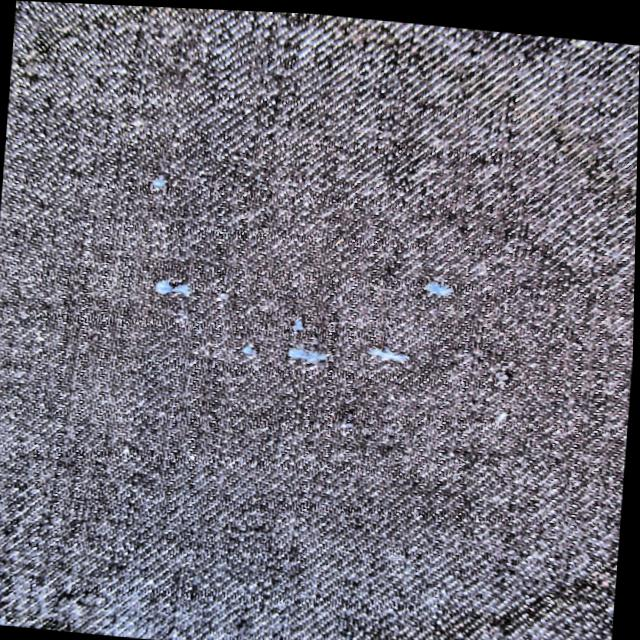Hole: (358, 331, 427, 373), (274, 304, 328, 333), (153, 276, 191, 294), (425, 274, 455, 294), (291, 343, 328, 358), (496, 362, 518, 376), (493, 404, 517, 416), (216, 287, 237, 300), (343, 414, 360, 427), (242, 343, 264, 350), (151, 175, 167, 184)
